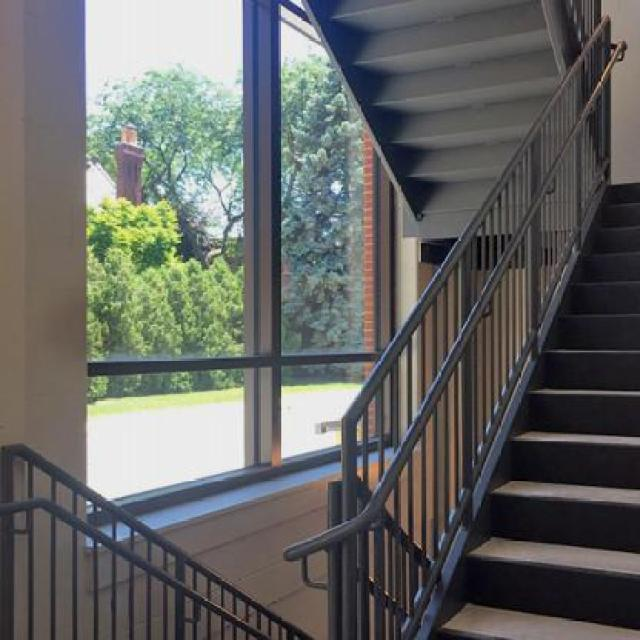stair: (269, 0, 640, 638)
